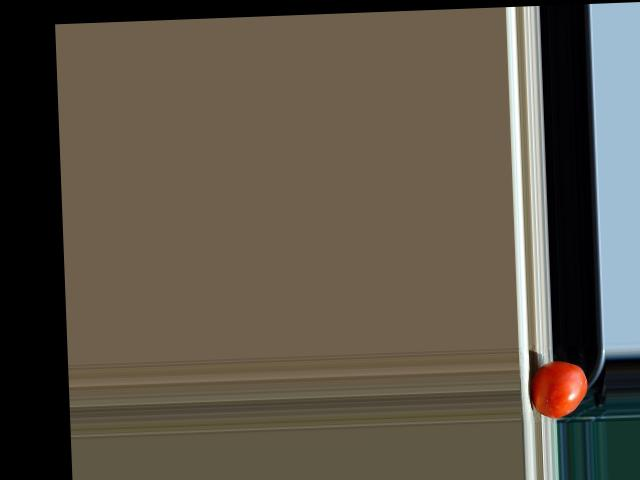tomato: (531, 360, 589, 418)
